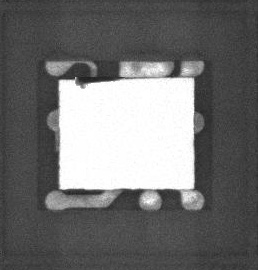DIE_BROKEN: (73, 74, 127, 88)
